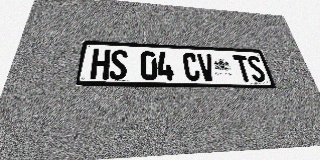0: (140, 51, 157, 80)
4: (156, 51, 174, 81)
C: (182, 53, 201, 81)
H: (90, 49, 111, 80)
S: (109, 49, 128, 80), (246, 55, 267, 82)
T: (232, 55, 253, 82)
V: (197, 53, 216, 81)
